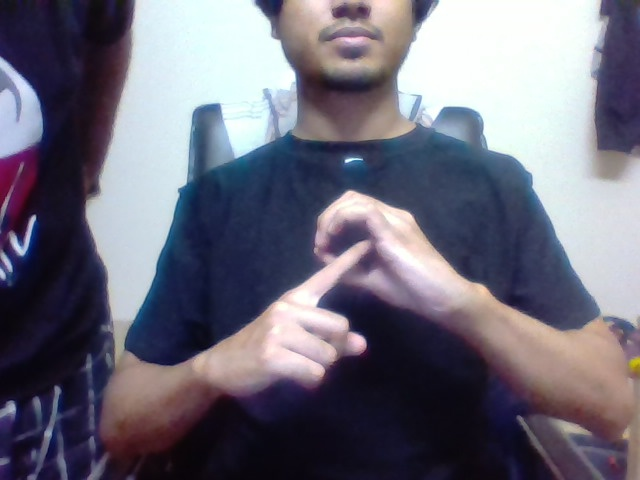Q: (318, 207, 400, 286)
